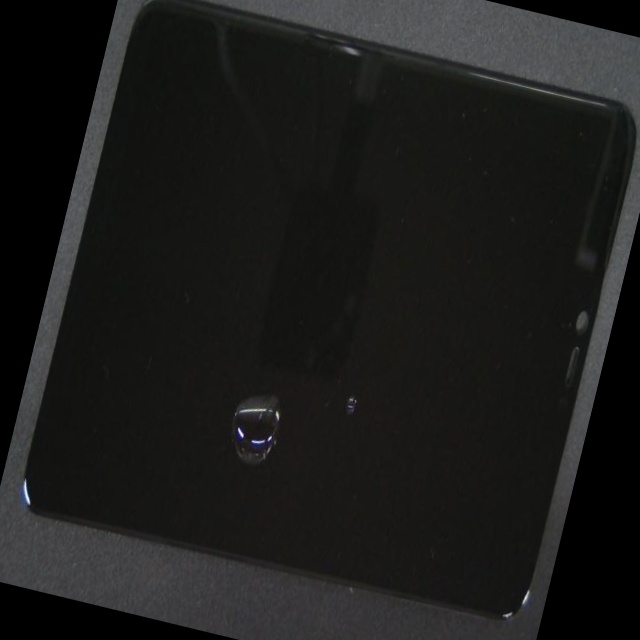oil: (78, 148, 396, 640)
